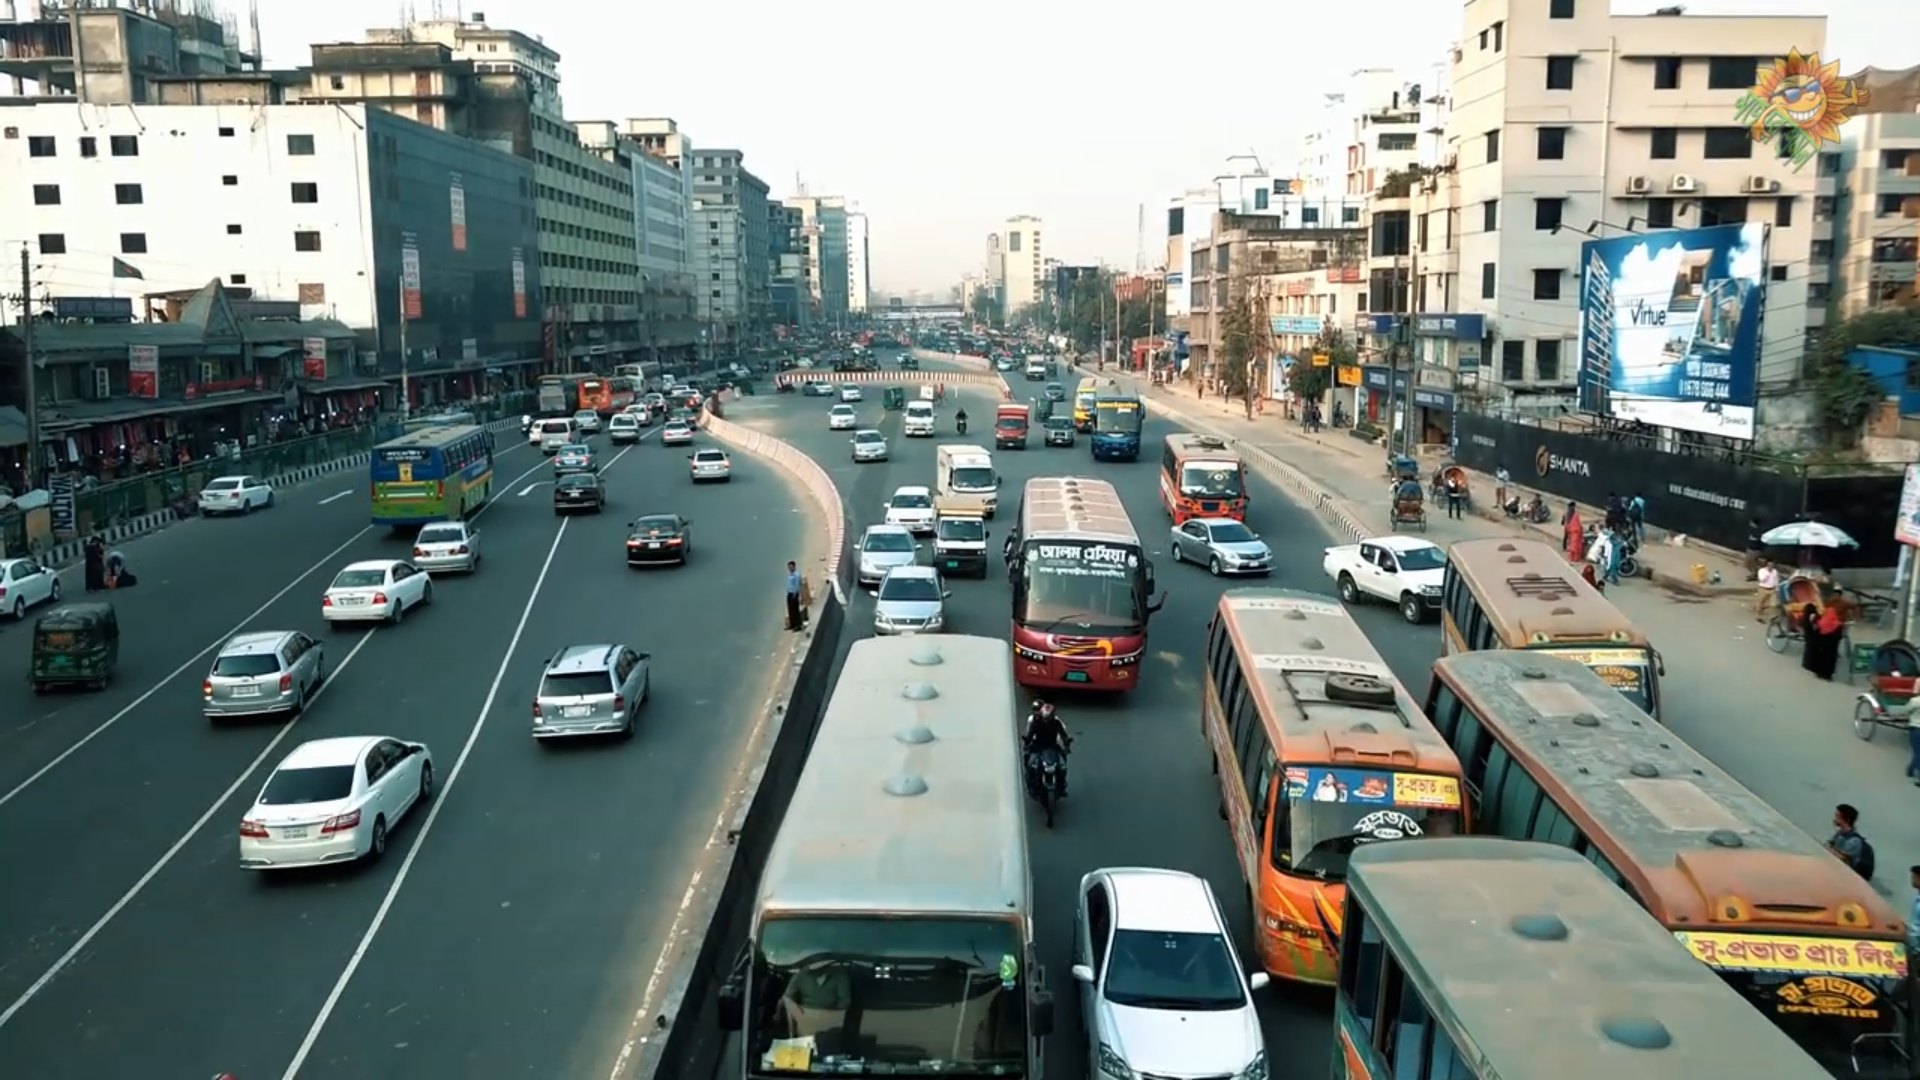HeavyVehicle: (735, 621, 1021, 1076), (1338, 833, 1836, 1080), (1204, 580, 1468, 845), (1010, 472, 1156, 699), (1447, 533, 1644, 644), (371, 419, 501, 522), (1158, 429, 1244, 512), (1095, 375, 1141, 467), (578, 376, 640, 413)
LightVehicle: (237, 728, 439, 876), (531, 637, 657, 740), (202, 630, 328, 724), (26, 600, 127, 695), (322, 554, 433, 633), (1174, 512, 1270, 575), (626, 512, 698, 570), (553, 471, 611, 513), (688, 446, 732, 483)
MotorCycle: (1023, 698, 1076, 843), (952, 404, 971, 438)
